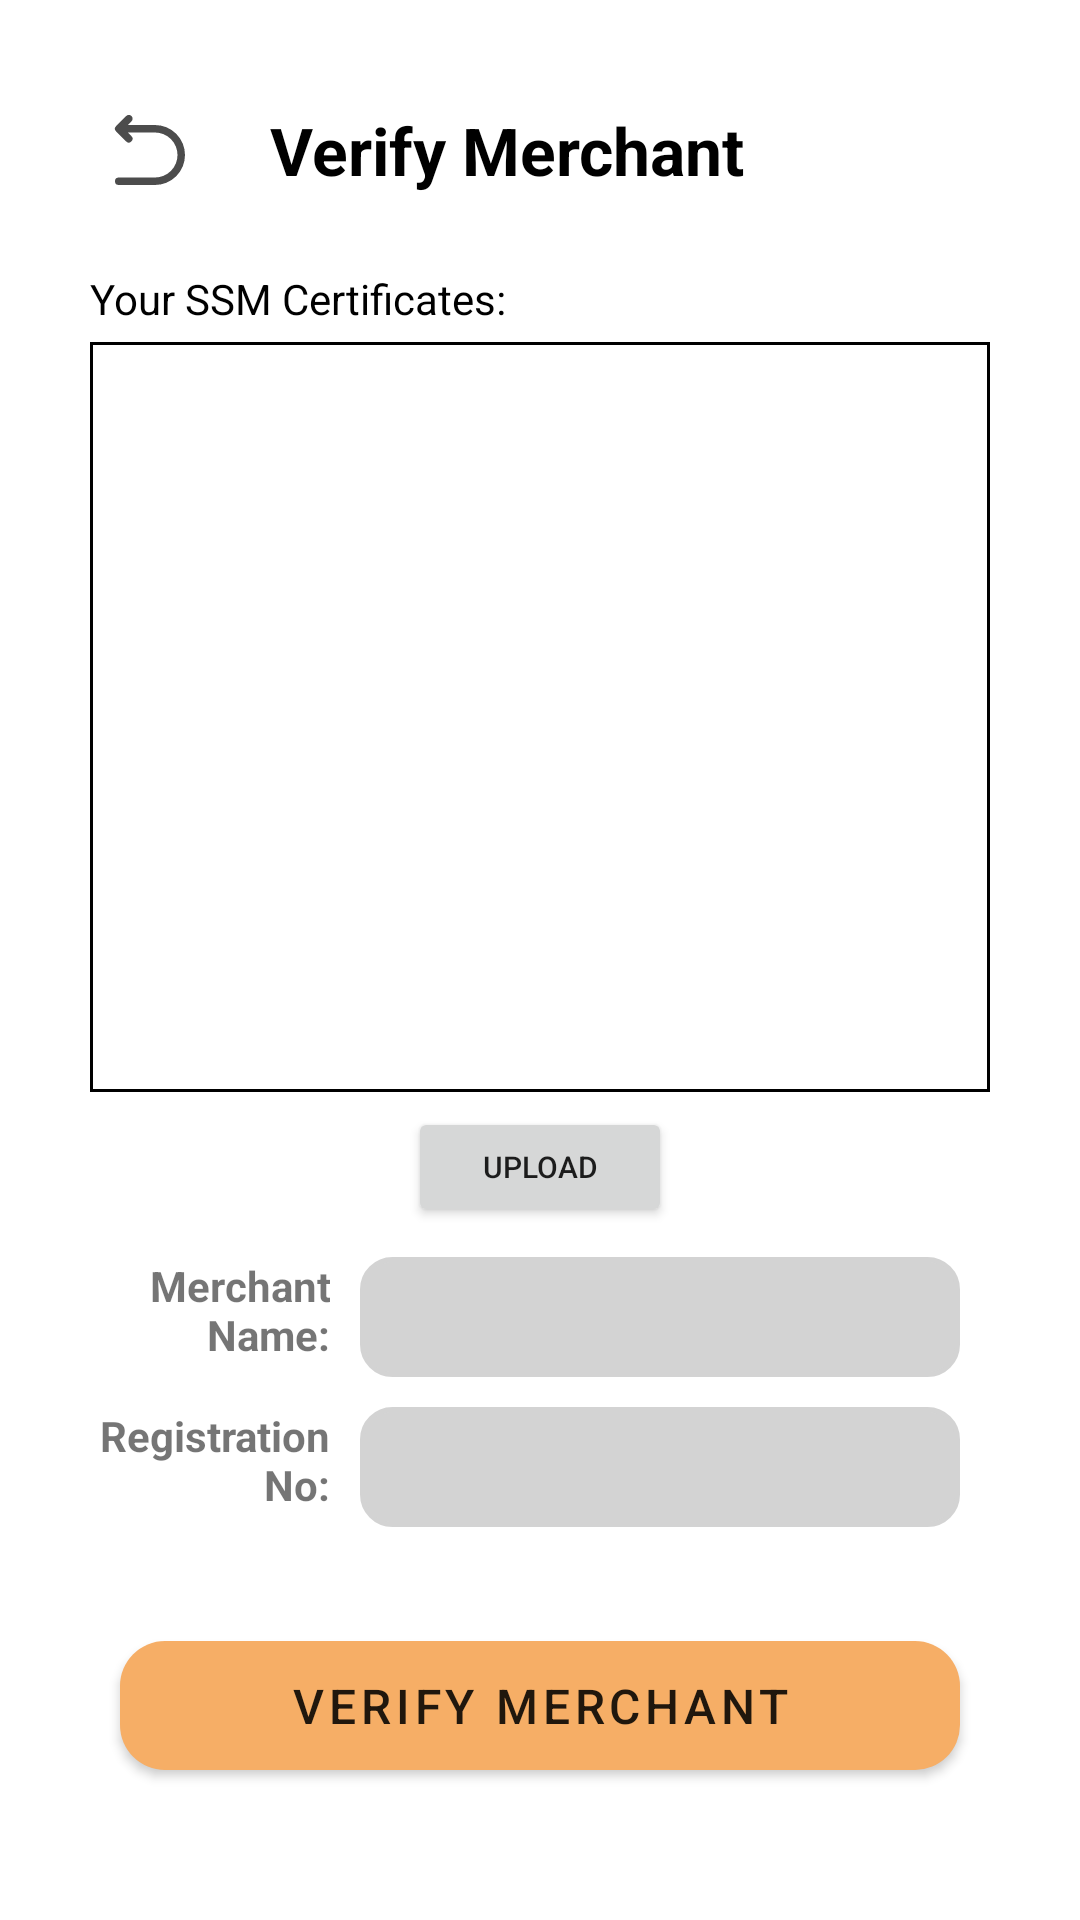

Icons on this 1080*1920 Android screen, each with its box as (x1, y1, x2, y2):
back arrow: (114, 115, 185, 185)
